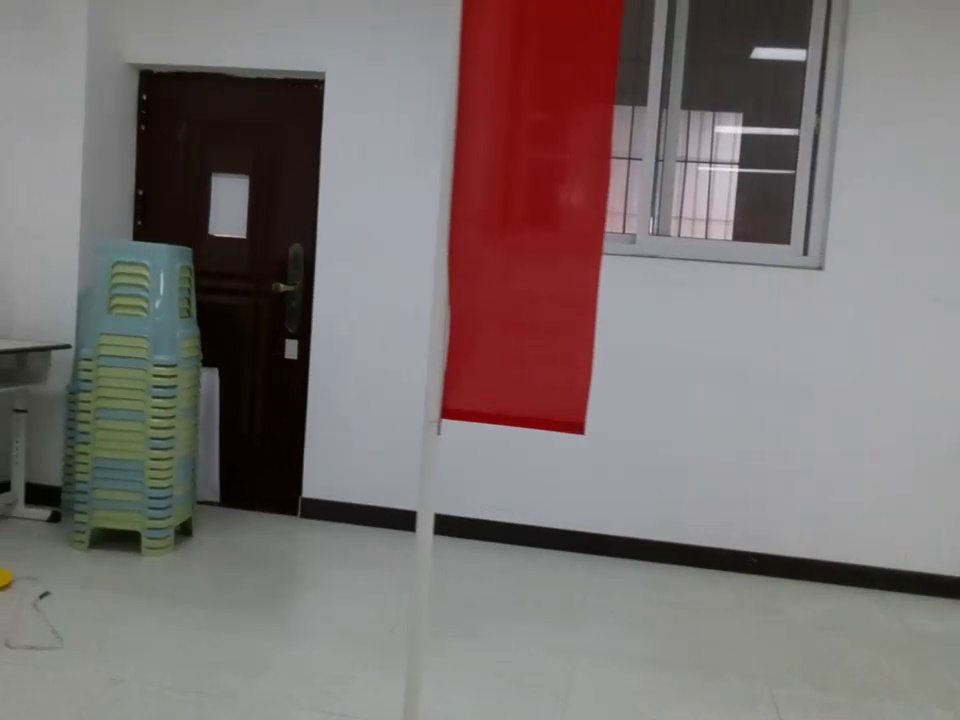qi: (413, 1, 631, 445)
